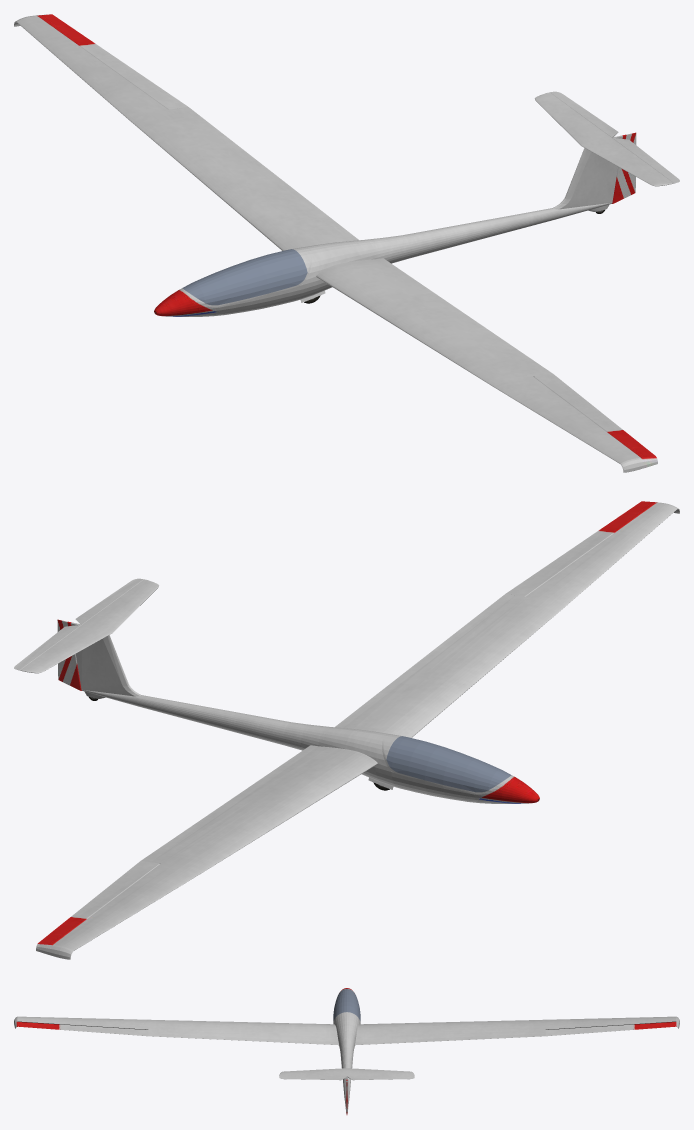
File: glider-2-33-like.obj
3 views of the same model, one above another, from view 1: azimuth 30°, elevation 25°; view 2: azimuth 150°, elevation 25°; view 3: azimuth 270°, elevation 25° (orthographic). The views are drawn at different scales.
Visible parts, largest first — view 1: Object_2, Object_10, Object_1, Object_9; view 2: Object_2, Object_10, Object_1, Object_9; view 3: Object_2, Object_10, Object_9, Object_1.
Boxes of the visible parts, x1,y1,x2,y2 form: Object_2: (14,14,679,472); Object_10: (154,135,622,346); Object_1: (182,249,307,305); Object_9: (304,92,673,303); Object_2: (14,501,679,959); Object_10: (71,622,539,833); Object_1: (386,736,511,792); Object_9: (20,579,389,790); Object_2: (14,1016,679,1114); Object_10: (18,988,675,1108); Object_9: (279,1068,414,1076); Object_1: (333,989,360,1020).
Bounding box in the file's own units: 673 × 124 × 1481.
Materials: 12 (9 with a texture image).
